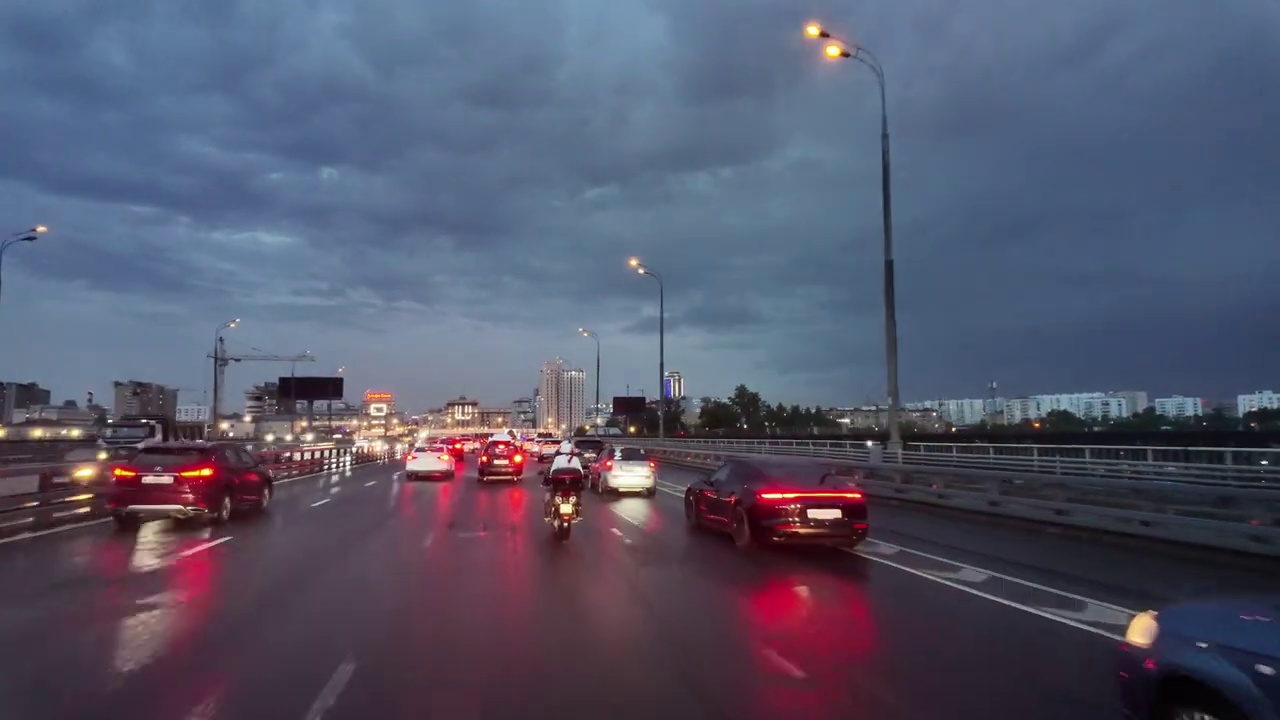acesa: (801, 20, 841, 49), (625, 254, 647, 278)
apagada: (22, 220, 50, 247)
